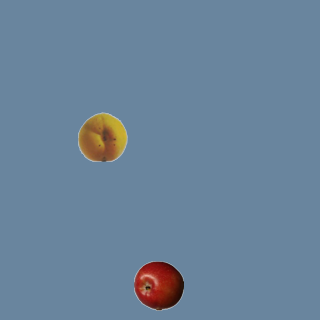Apple Braeburn: (133, 260, 183, 310)
Peach 2: (77, 111, 127, 161)
